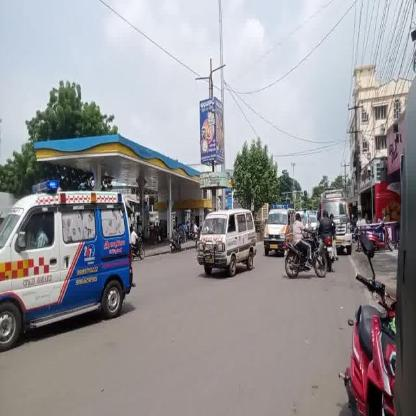priority: (0, 178, 136, 346), (195, 207, 253, 280), (262, 192, 294, 260), (313, 190, 359, 218)
